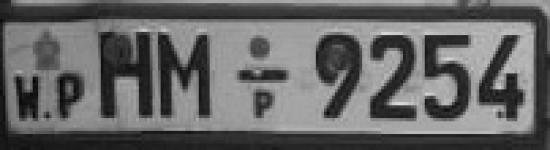-: (236, 64, 293, 88)
2: (367, 27, 423, 126)
4: (476, 31, 529, 127)
5: (422, 26, 476, 124)
9: (312, 26, 366, 122)
H: (93, 27, 158, 127)
M: (155, 27, 218, 126)
P: (53, 70, 86, 126)
W: (12, 70, 47, 125)
